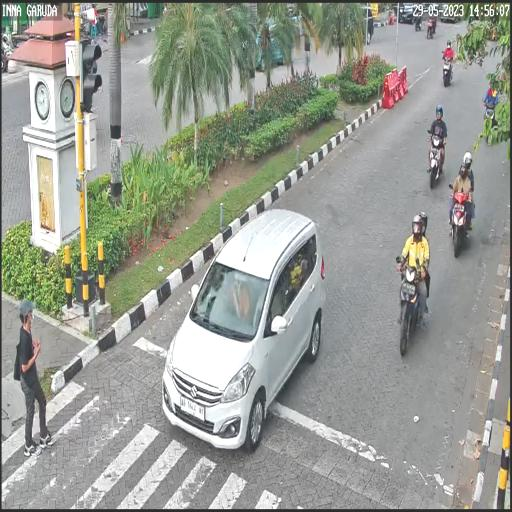mobil: (162, 208, 321, 448)
motor: (395, 253, 431, 355), (448, 183, 475, 258), (426, 128, 447, 187), (442, 48, 454, 88)
